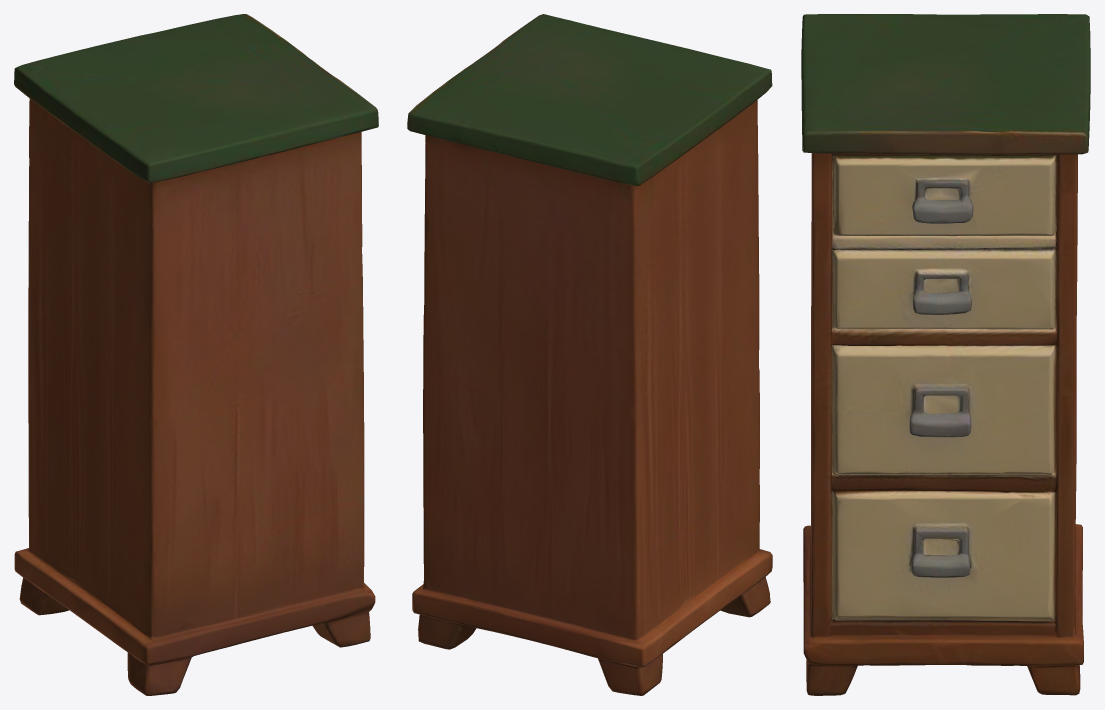
Rendered from cabinet.glb.
3 renders of one model, left to right at view 1: azimuth 30°, elevation 25°; view 2: azimuth 150°, elevation 25°; view 3: azimuth 270°, elevation 25°, orthographic. The views are drawn at different scales.
Visible parts, largest first — view 1: tripo_node_b44b0499-1575-4d90-89e0-b7006be8ec67; view 2: tripo_node_b44b0499-1575-4d90-89e0-b7006be8ec67; view 3: tripo_node_b44b0499-1575-4d90-89e0-b7006be8ec67.
Boxes of the visible parts, x1=… form: tripo_node_b44b0499-1575-4d90-89e0-b7006be8ec67: x1=14, y1=14, x2=378, y2=695; tripo_node_b44b0499-1575-4d90-89e0-b7006be8ec67: x1=407, y1=14, x2=772, y2=695; tripo_node_b44b0499-1575-4d90-89e0-b7006be8ec67: x1=801, y1=14, x2=1090, y2=695.
Bounding box in the file's own units: 0.4674 × 1 × 0.4578.
1 material, 1 textured.
